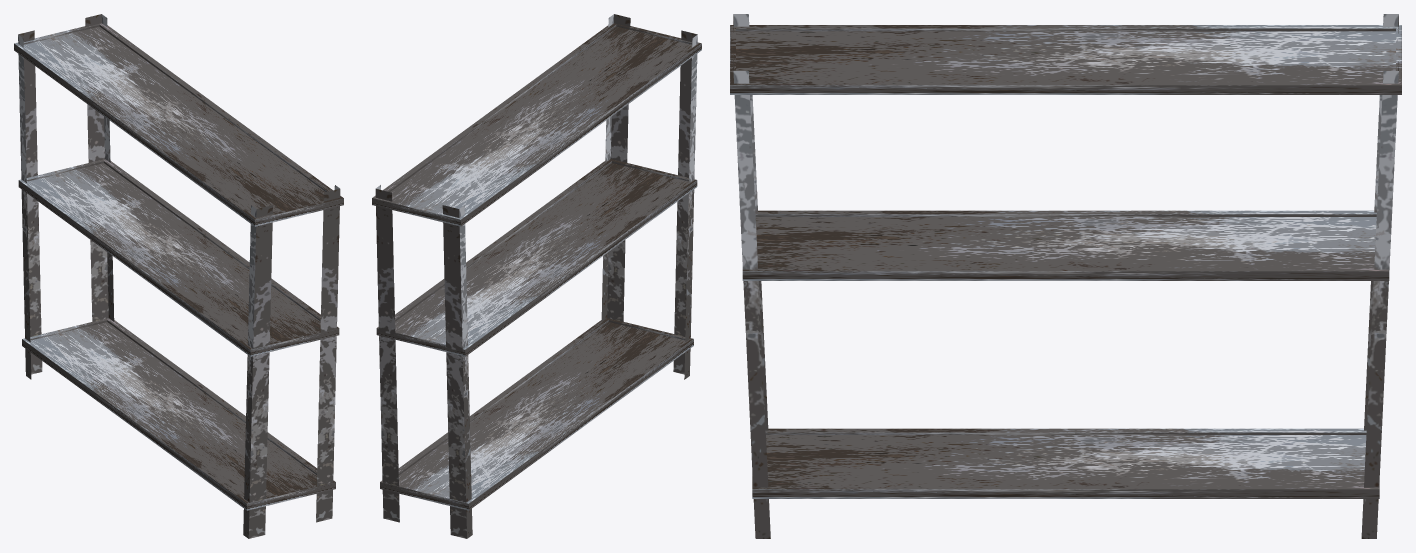
File: MetalShelf.fbx
The picture shows the model from 3 angles, left to right: view 1: azimuth 30°, elevation 25°; view 2: azimuth 150°, elevation 25°; view 3: azimuth 270°, elevation 25°; orthographic projection. The views are drawn at different scales.
Visible parts, largest first — view 1: Cube.002, Cube.001, Cube, Plane.001, Plane, Plane.002, Plane.003; view 2: Cube.002, Cube.001, Cube, Plane.002, Plane.003, Plane.001, Plane; view 3: Cube.002, Cube.001, Cube, Plane.003, Plane, Plane.002, Plane.001.
Part boxes in pixels (x1,y1,x2,y2): Cube.002: (14,23,343,226); Cube.001: (18,159,339,356); Cube: (22,318,335,510); Plane.001: (243,205,272,538); Plane: (316,185,340,522); Plane.002: (18,30,42,379); Plane.003: (85,14,114,321); Cube.002: (372,23,701,226); Cube.001: (376,159,697,356); Cube: (380,318,693,510); Plane.002: (442,205,472,538); Plane.003: (375,185,399,522); Plane.001: (673,30,697,379); Plane: (601,14,630,321); Cube.002: (730,25,1401,94); Cube.001: (742,210,1389,280); Cube: (752,428,1379,498); Plane.003: (1361,61,1398,538); Plane: (733,60,770,538); Plane.002: (1364,14,1398,430); Plane.001: (733,14,768,430).
Size of the model in its own units: 125 by 585 by 450.
